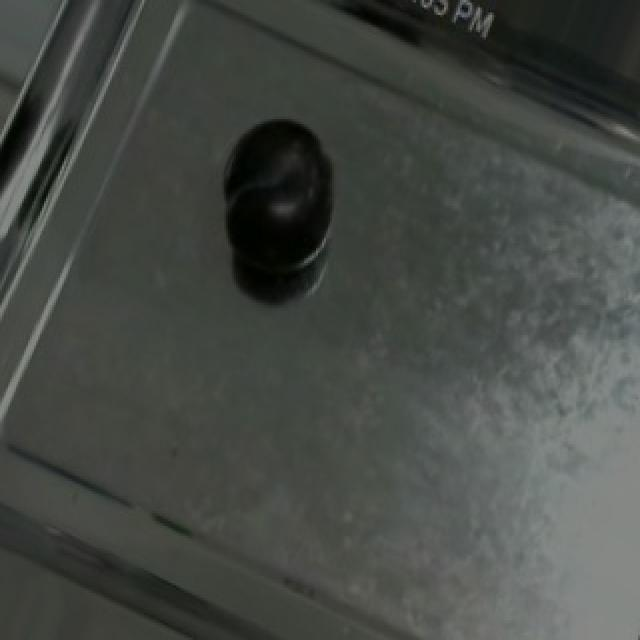Fruit: (206, 96, 352, 292)
